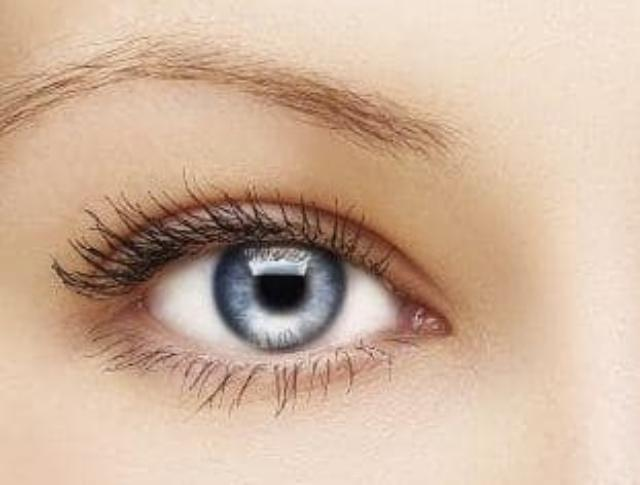eye: (216, 224, 344, 354)
